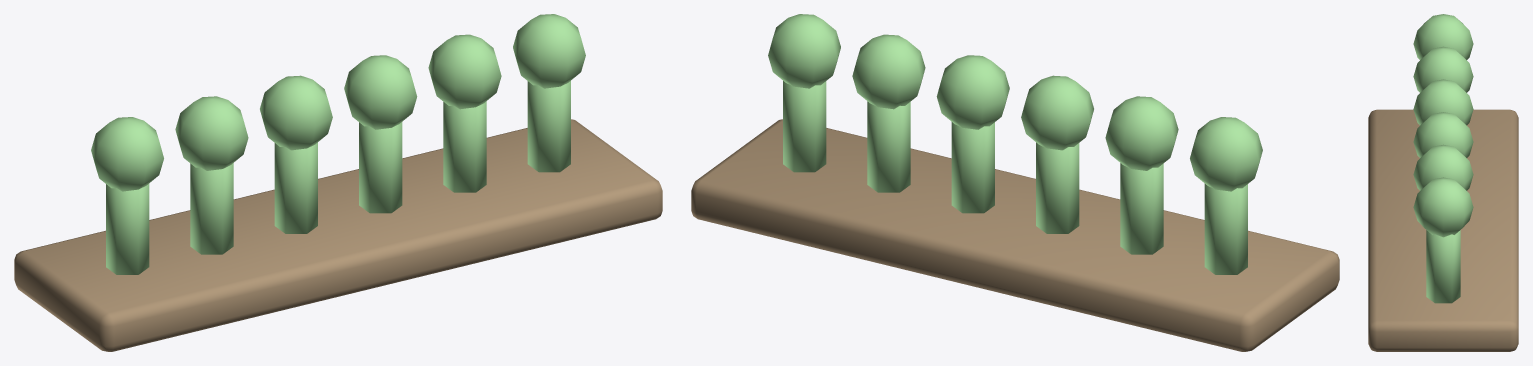
File: cozy_crop_row_A.glb
3 views of the same model, side by side, from view 1: azimuth 30°, elevation 25°; view 2: azimuth 150°, elevation 25°; view 3: azimuth 270°, elevation 25° (orthographic). The views are drawn at different scales.
Visible parts, largest first — view 1: Soil, Top5, Top3, Top1, Top4, Top0, Top2, Plant5, Plant3, Plant1, Plant4, Plant2 (+1 smaller); view 2: Soil, Top5, Top3, Top1, Top4, Top0, Top2, Plant5, Plant3, Plant1, Plant4, Plant2 (+1 smaller); view 3: Soil, Top5, Plant5, Top2, Top3, Top1, Top4, Top0.
Part boxes in pixels (x1,y1,x2,y2): Soil: (14,119,662,351); Top5: (513,14,585,88); Top3: (344,55,417,129); Top1: (175,96,248,170); Top4: (428,34,501,109); Top0: (91,117,163,191); Top2: (260,75,332,150); Plant5: (527,81,570,172); Plant3: (359,122,402,213); Plant1: (190,163,233,254); Plant4: (443,101,486,192); Plant2: (274,142,317,233); Soil: (691,119,1339,351); Top5: (768,14,840,88); Top3: (936,55,1009,129); Top1: (1105,96,1178,170); Top4: (852,34,925,109); Top0: (1190,117,1262,191); Top2: (1021,75,1093,150); Plant5: (783,81,826,172); Plant3: (951,122,994,213); Plant1: (1120,163,1163,254); Plant4: (867,101,910,192); Plant2: (1036,142,1079,233); Soil: (1368,109,1518,351); Top5: (1413,177,1473,237); Plant5: (1426,230,1460,303); Top2: (1413,79,1473,125); Top3: (1413,112,1473,157); Top1: (1413,46,1473,92); Top4: (1413,144,1473,190); Top0: (1413,14,1473,59).
Bounding box in the file's own units: 1.2 × 0.38 × 0.35.
